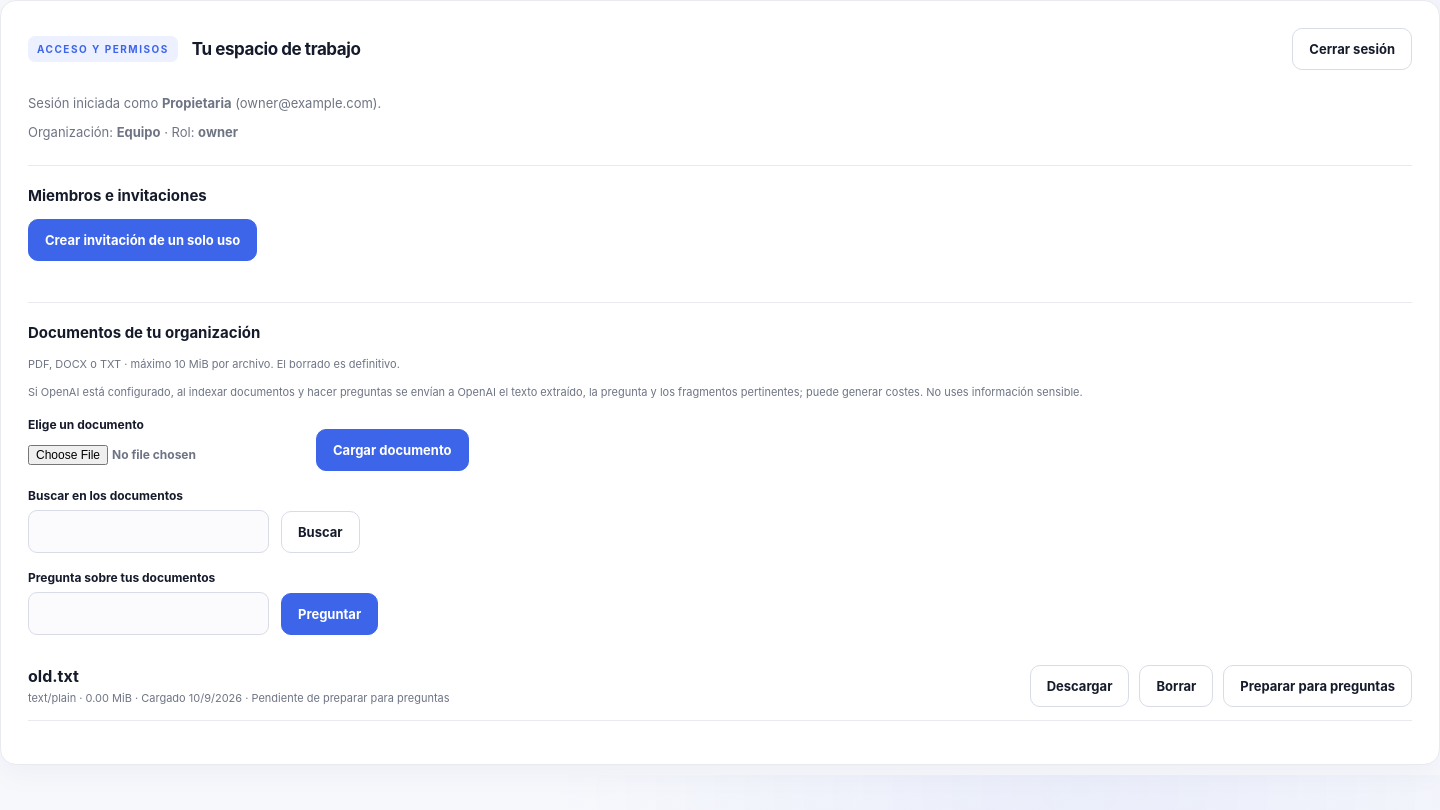
Test case: AuthPanel › lets the user explicitly index a previous document
Click the button "Preparar para preguntas" at (1318, 686), box [1223,665,1412,707]
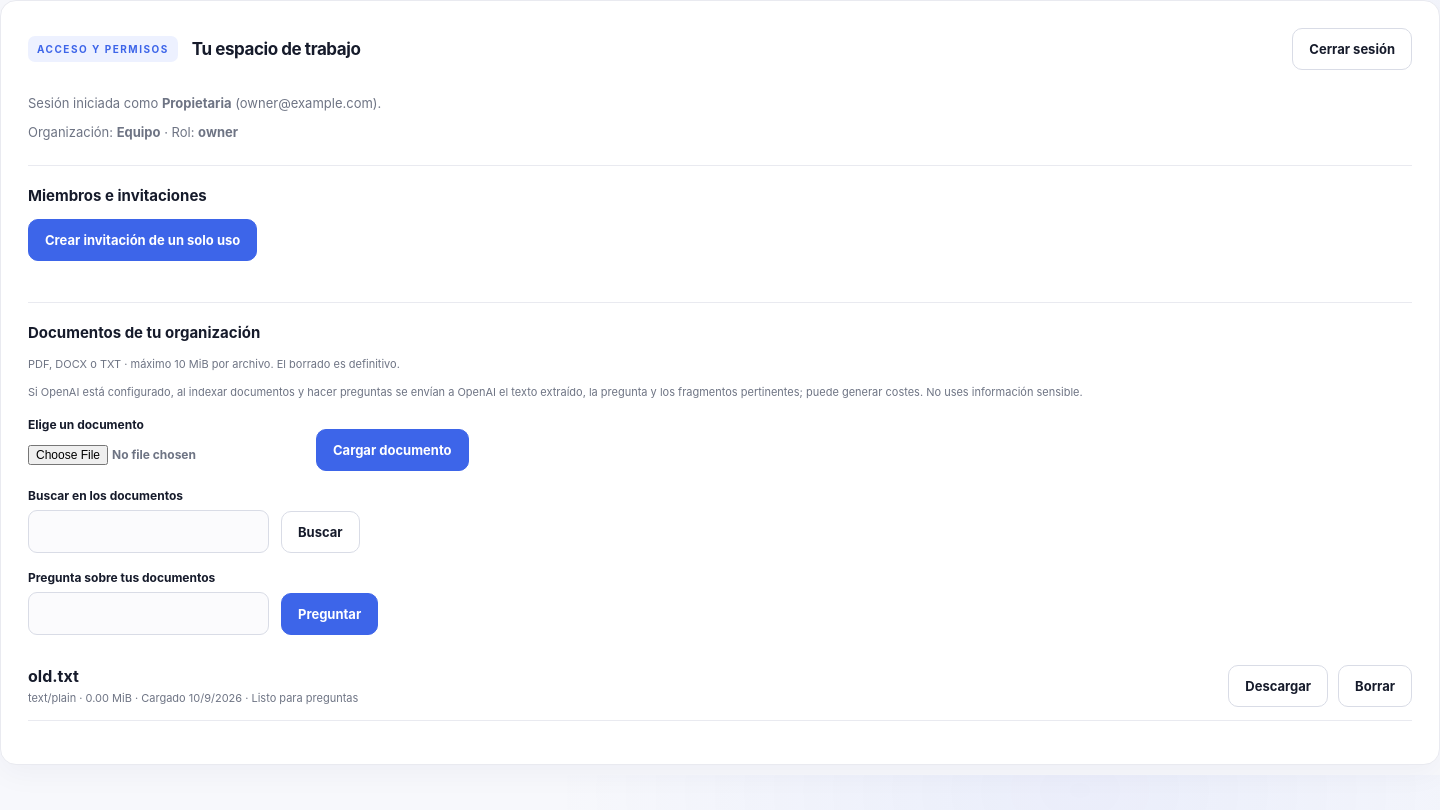
Check: the text "Listo para preguntas" is shown, box [252,691,358,705]
